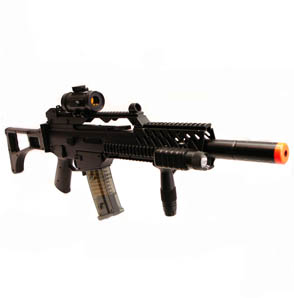rifle: (5, 78, 288, 236)
